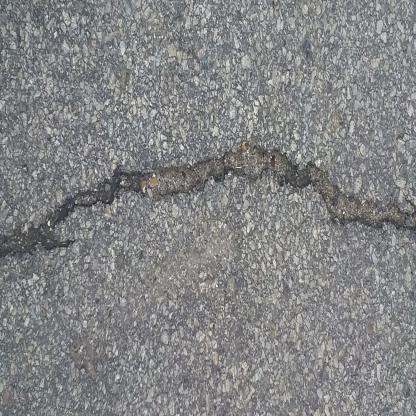Cracks: (0, 142, 416, 295)
